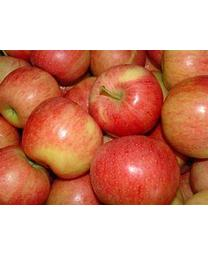apple: (22, 98, 103, 179), (91, 136, 180, 204), (88, 64, 162, 137), (160, 77, 207, 159), (0, 67, 62, 127), (1, 144, 49, 204), (30, 51, 91, 83), (161, 50, 207, 90), (90, 49, 145, 76), (49, 176, 99, 204)
